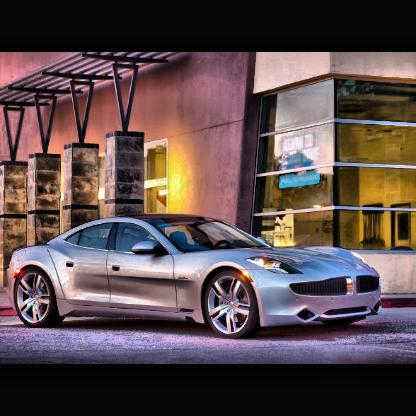Fisker Karma Sedan 2012: (6, 213, 386, 341)
